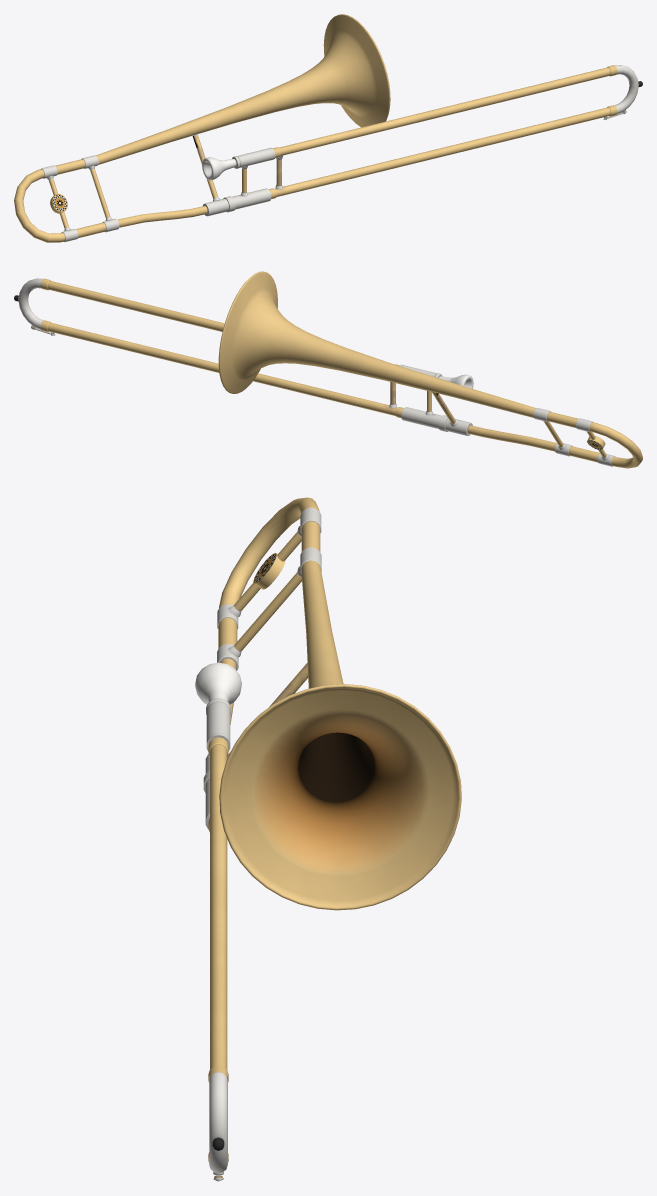
File: ska_trombone.glb
3 renders of one model, top to bottom at view 1: azimuth 30°, elevation 25°; view 2: azimuth 150°, elevation 25°; view 3: azimuth 270°, elevation 25°, orthographic. The views are drawn at different scales.
Visible parts, largest first — view 1: tb_bell, tb_slide, tb_body; view 2: tb_bell, tb_slide, tb_body; view 3: tb_bell, tb_body, tb_slide.
Boxes of the visible parts, x1=… form: tb_bell: x1=96, y1=14, x2=390, y2=164; tb_slide: x1=269, y1=65, x2=642, y2=199; tb_body: x1=14, y1=134, x2=275, y2=242; tb_bell: x1=218, y1=271, x2=535, y2=417; tb_slide: x1=14, y1=278, x2=403, y2=418; tb_body: x1=400, y1=364, x2=642, y2=468; tb_bell: x1=219, y1=560, x2=461, y2=910; tb_body: x1=195, y1=497, x2=321, y2=829; tb_slide: x1=208, y1=737, x2=228, y2=1181.
Size of the model in its own units: 1.19 by 0.2452 by 0.2233.
1 material, 1 textured.
